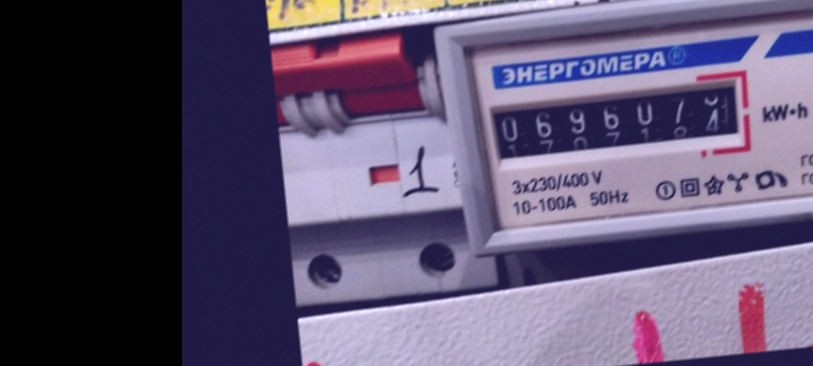0: (632, 94, 653, 126), (498, 112, 518, 141)
4: (700, 103, 720, 133)
6: (532, 107, 552, 137), (600, 99, 619, 129)
7: (666, 92, 688, 125)
9: (565, 104, 586, 134)
screen: (474, 64, 758, 175)
